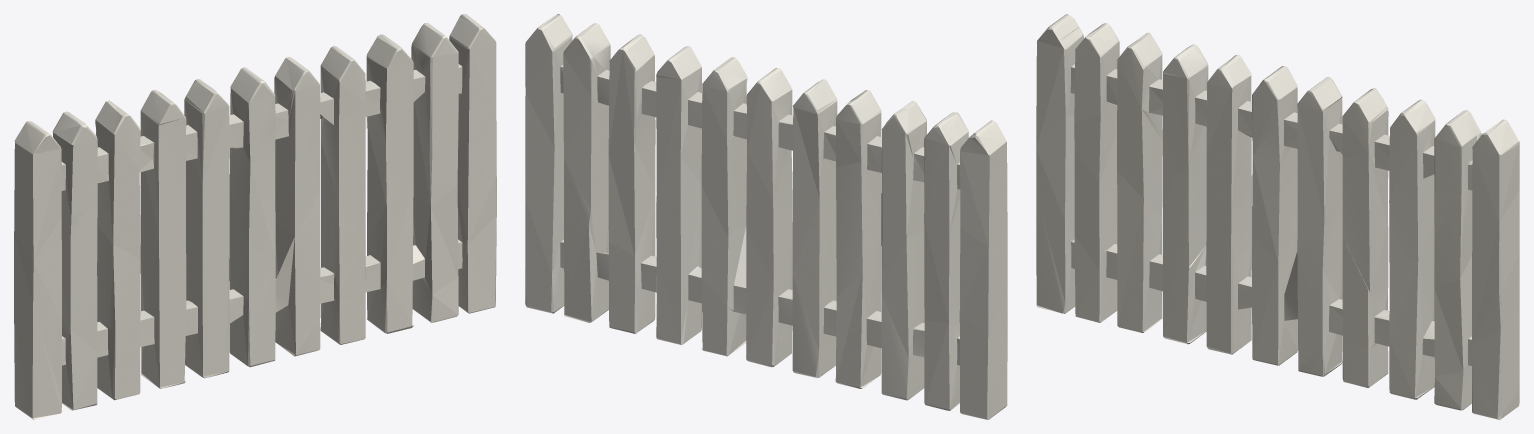
The model's file is picket_fence.glb.
3 renders of one model, left to right at view 1: azimuth 30°, elevation 25°; view 2: azimuth 150°, elevation 25°; view 3: azimuth 330°, elevation 25°, orthographic.
Size of the model in its own units: 1.9 by 1.11 by 0.1445.
1 material, 1 textured.
